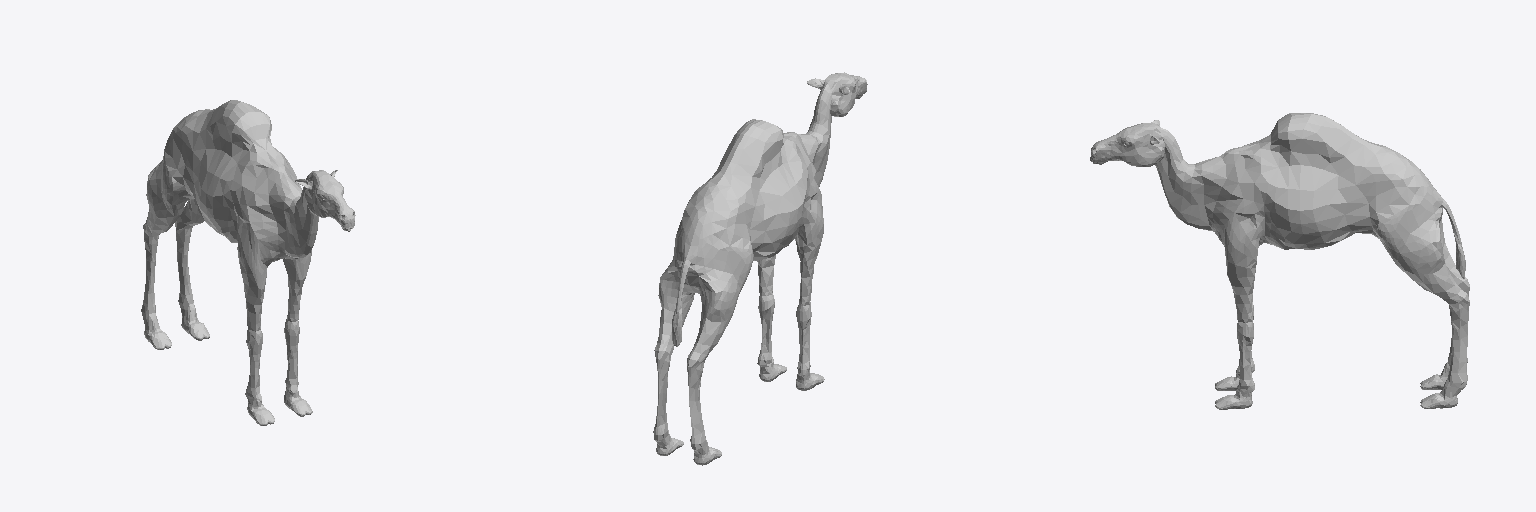
Rendered from CAMEL.OBJ.
3 views of the same model, side by side, from view 1: azimuth 30°, elevation 25°; view 2: azimuth 150°, elevation 25°; view 3: azimuth 270°, elevation 25° (orthographic).
Parts seen in each view (by area): view 1: cml_body; view 2: cml_body; view 3: cml_body.
Boxes of the visible parts, box(x1,y1,x2,y2) form: cml_body: box(141, 100, 355, 425); cml_body: box(653, 72, 867, 465); cml_body: box(1090, 113, 1469, 409).
Size of the model in its own units: 0.6136 by 2.1 by 2.54.